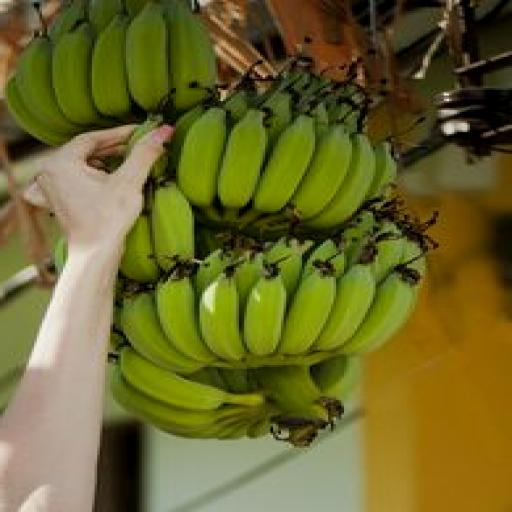banana-unripe: (0, 7, 454, 430)
